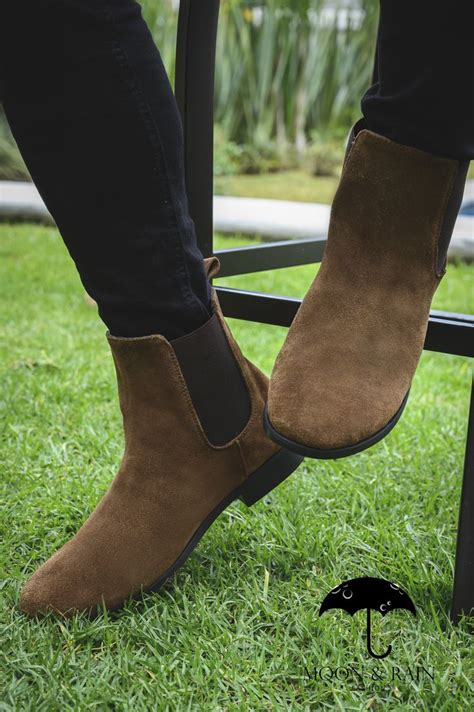gamuza: (18, 128, 470, 619)
